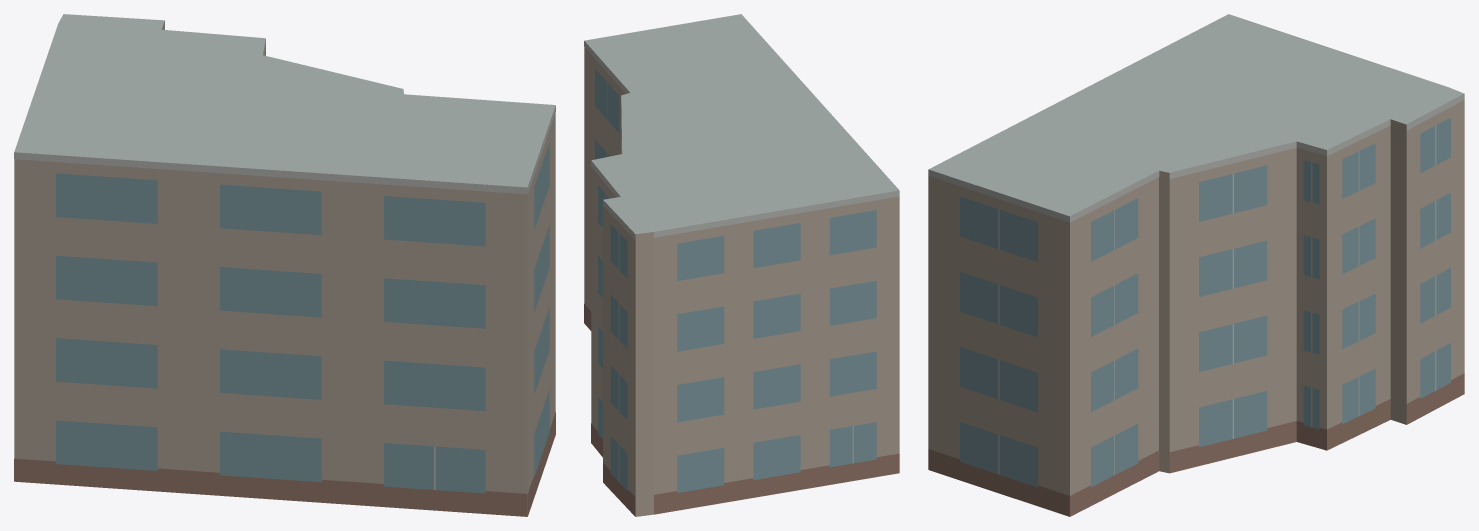
The model's file is survey-upis-32673753.glb.
3 renders of one model, left to right at view 1: azimuth 30°, elevation 25°; view 2: azimuth 150°, elevation 25°; view 3: azimuth 270°, elevation 25°, orthographic. The views are drawn at different scales.
Parts seen in each view (by area): view 1: survey-upis-32673753.tmp; view 2: survey-upis-32673753.tmp; view 3: survey-upis-32673753.tmp.
Part boxes in pixels (x1,y1,x2,y2): survey-upis-32673753.tmp: (14, 14, 555, 516); survey-upis-32673753.tmp: (584, 14, 899, 516); survey-upis-32673753.tmp: (928, 14, 1464, 516).
Bounding box in the file's own units: 16.91 × 11.7 × 18.92.
